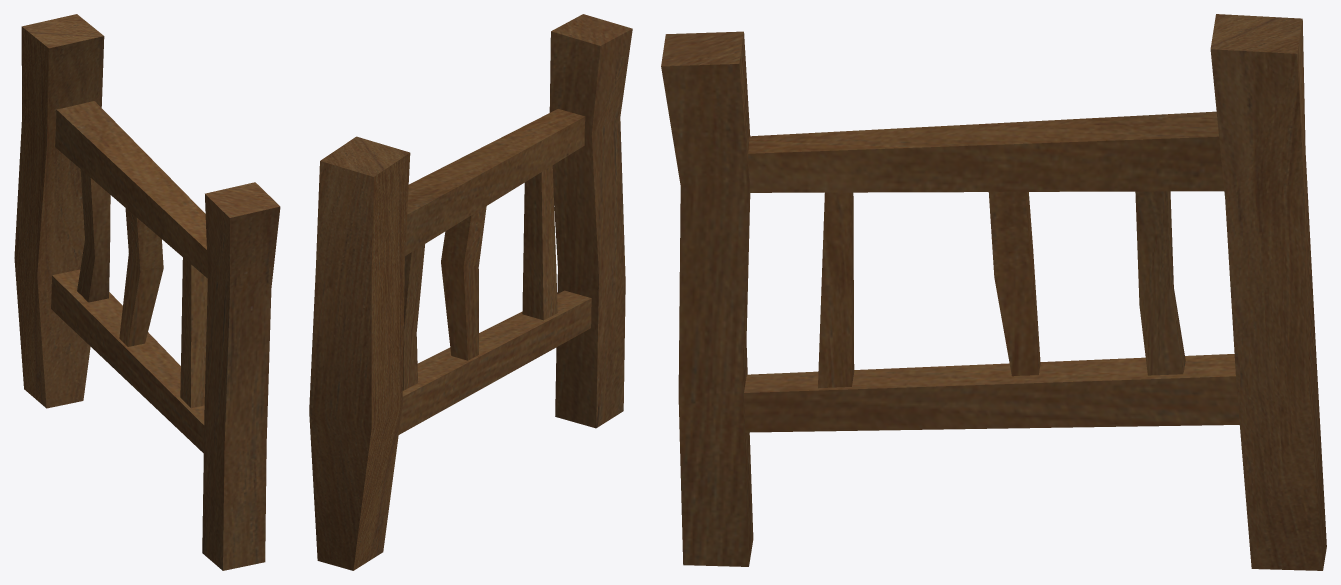
The picture shows the model from 3 angles, left to right: view 1: azimuth 30°, elevation 25°; view 2: azimuth 150°, elevation 25°; view 3: azimuth 270°, elevation 25°; orthographic projection. The views are drawn at different scales.
Visible parts, largest first — view 1: polySurface21; view 2: polySurface21; view 3: polySurface21.
Part boxes in pixels (x1=…): polySurface21: x1=14, y1=14, x2=280, y2=570; polySurface21: x1=309, y1=14, x2=632, y2=570; polySurface21: x1=661, y1=14, x2=1326, y2=570.
Bounding box in the file's own units: 81.69 × 379 × 428.
